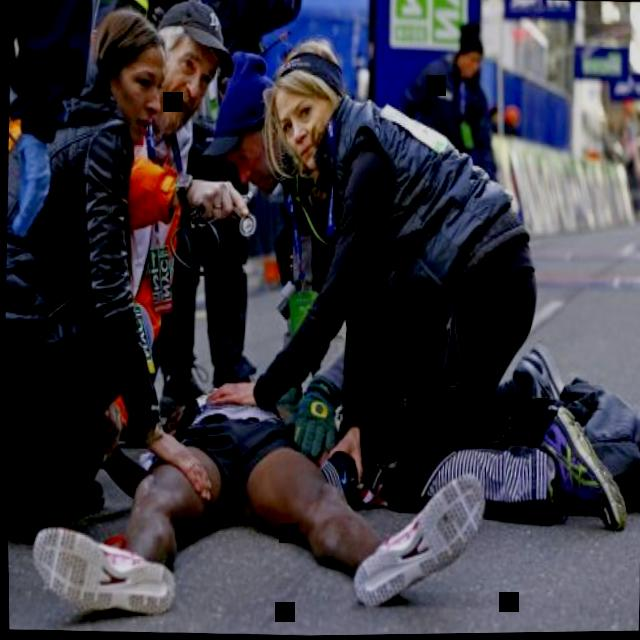Fall-Detected: (59, 335, 503, 627)
